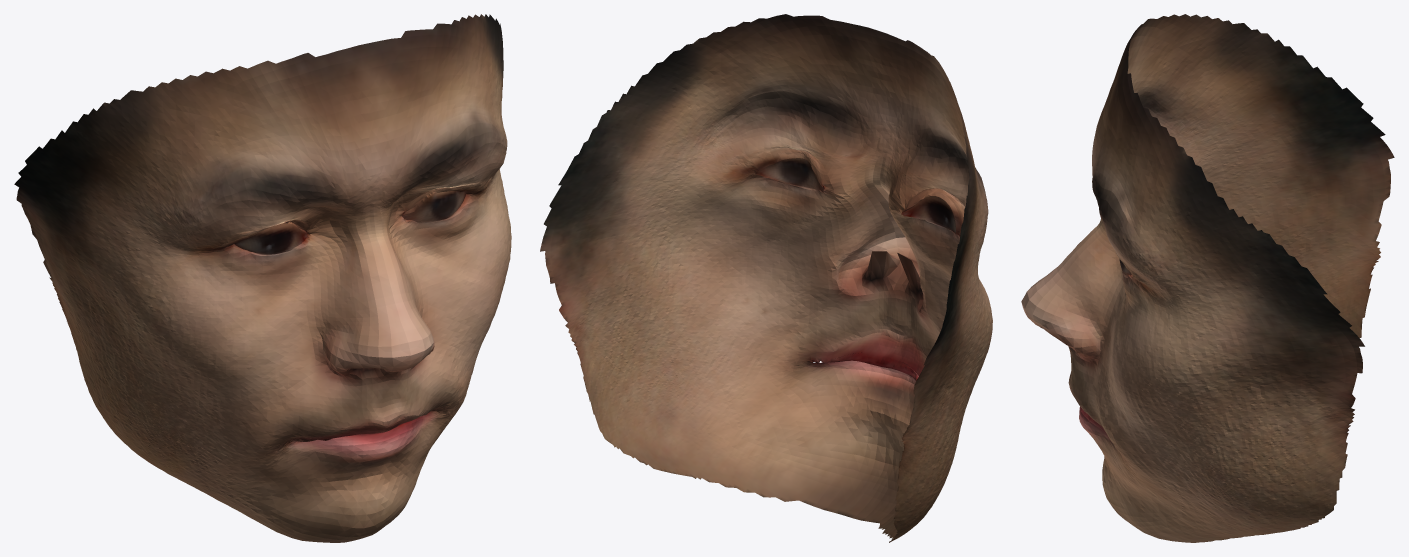
The model's file is 3DDFAV3.obj.
The picture shows the model from 3 angles, left to right: view 1: azimuth 30°, elevation 25°; view 2: azimuth 150°, elevation 25°; view 3: azimuth 270°, elevation 25°; orthographic projection. The views are drawn at different scales.
Bounding box in the file's own units: 1.39 × 1.54 × 1.09.
